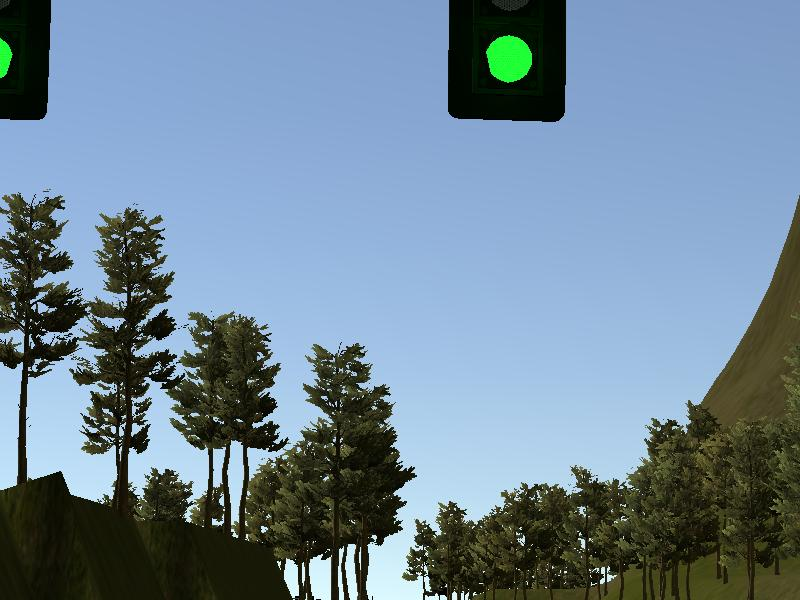green: (448, 1, 568, 121)
